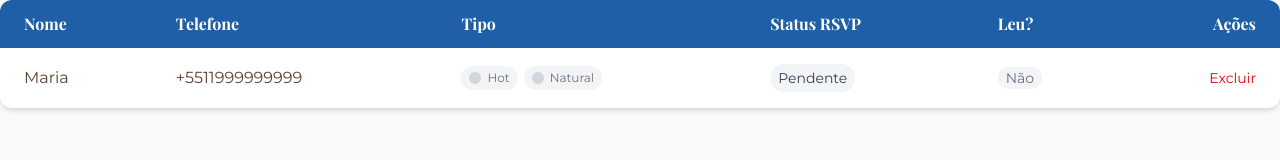
GuestsTable > Toast › should show error toast on save failure
Click the button "Maria".
click(76, 78)  # box [24,66,128,90]
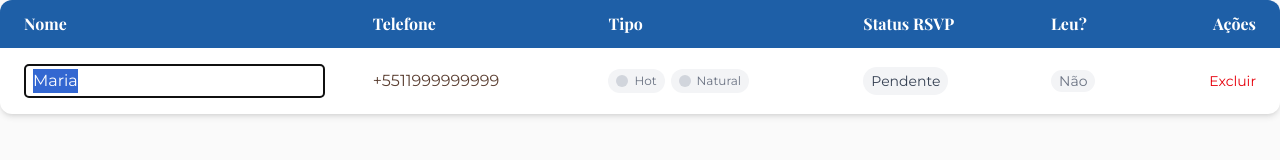
Replace the text in the field showing "Maria" with "Maria Oliveira" at (174, 81), box [24,64,325,98]
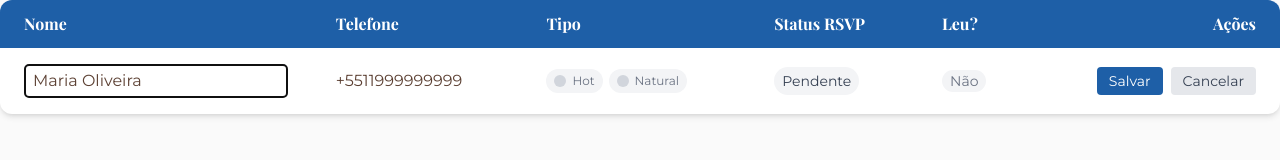
Press Enter in the field showing "Maria", box [24,64,288,98]
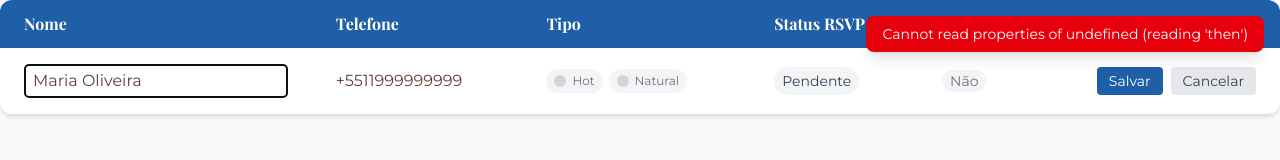
Now the button "Salvar" is shown
Click the button "Salvar".
click(1130, 81)  # box [1097,67,1163,95]
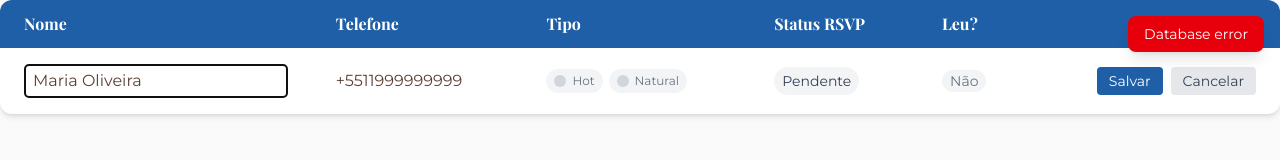
Now the text "Database error" is shown, box [1128,16,1264,52]
